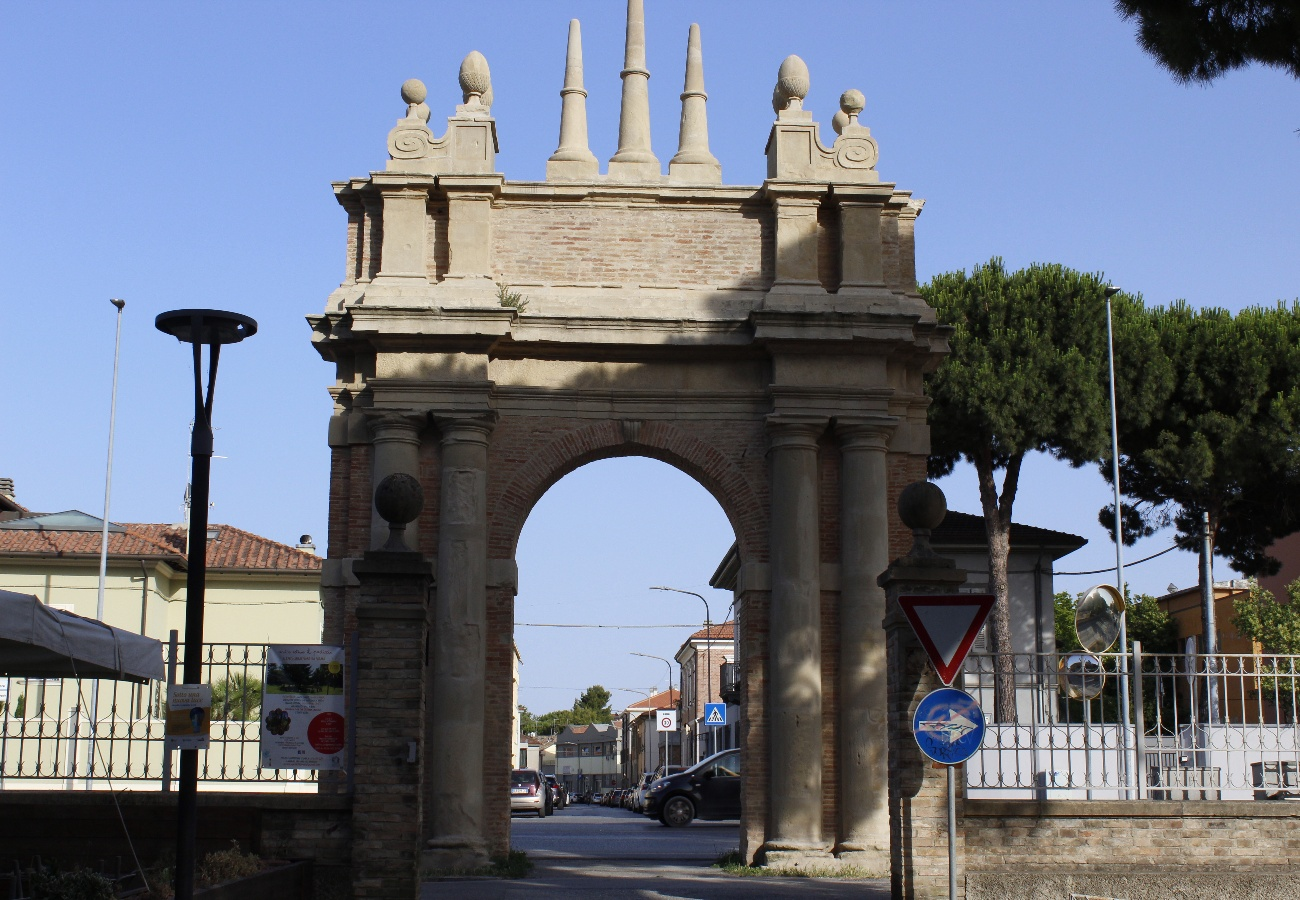Arco di Trionfo: (305, 2, 958, 878)
